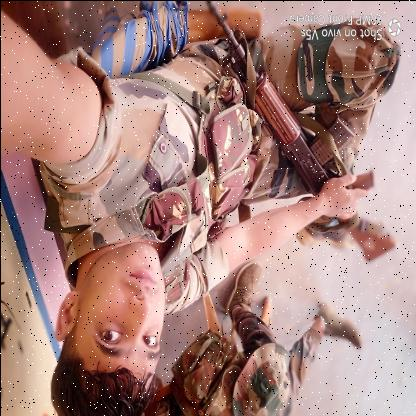rifle: (204, 0, 398, 264)
